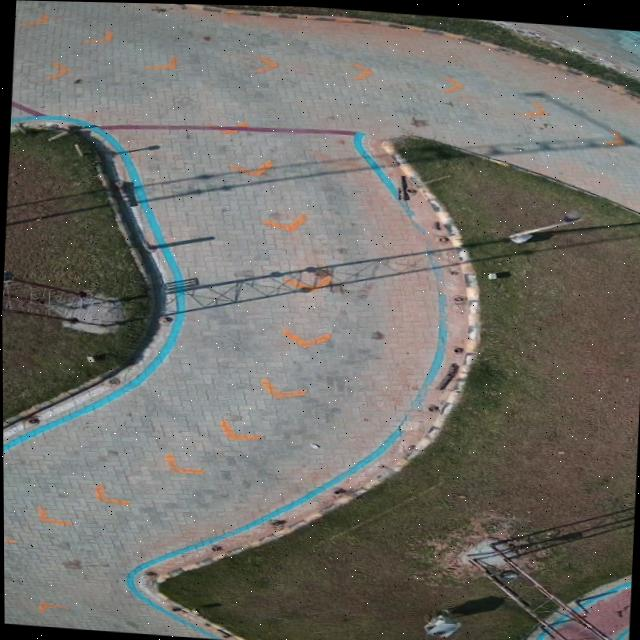No Car: (2, 0, 640, 640)
